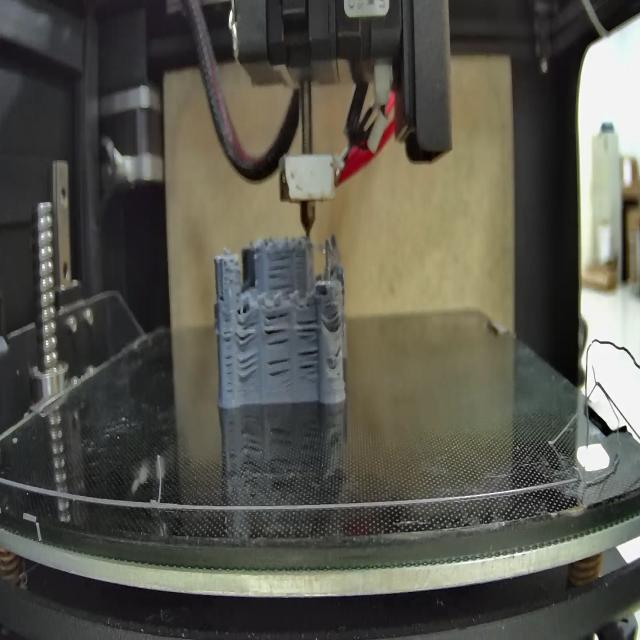cracks: (269, 251, 298, 292), (222, 315, 236, 397), (265, 306, 292, 346), (296, 348, 320, 383), (233, 318, 260, 349), (268, 350, 291, 385), (236, 350, 259, 382), (294, 313, 320, 341), (331, 338, 344, 364), (327, 306, 343, 327), (219, 285, 229, 304)
